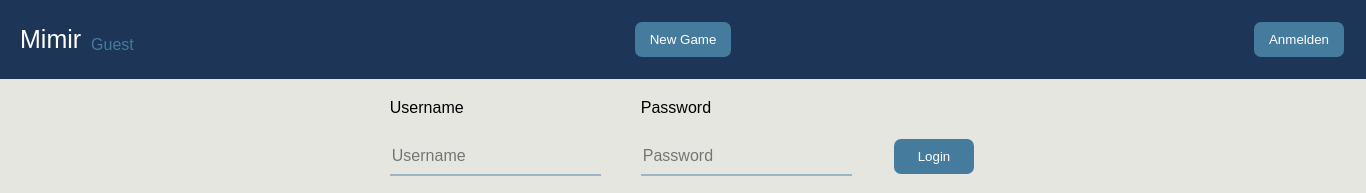
Login › Login player
Click the button "Anmelden" at (1299, 40), box [1254, 22, 1344, 57]
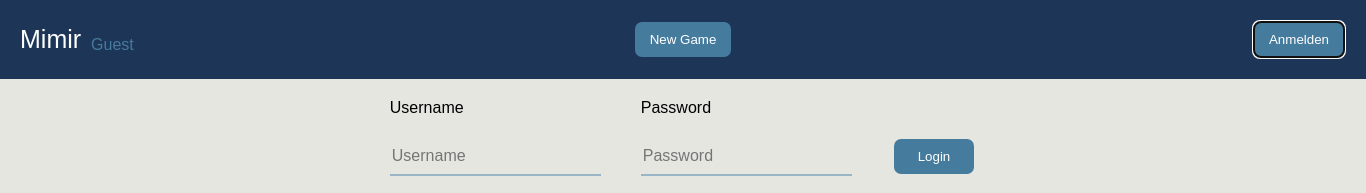
Expected: the password field with placeholder "Password" is shown, [641, 137, 852, 176]
Type "player" into the field with placeholder "Username" at (495, 156), box [390, 137, 601, 176]
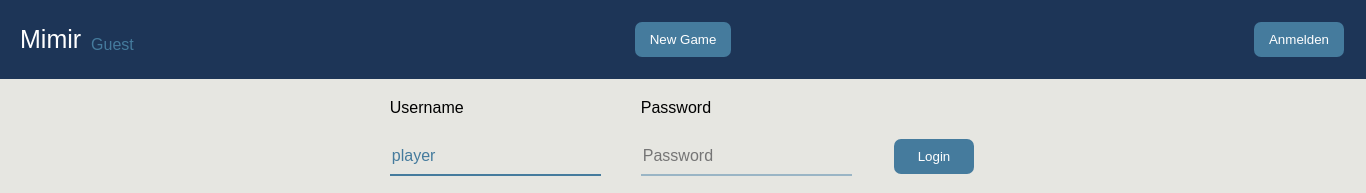
Type "player" into the password field with placeholder "Password" at (746, 156), box [641, 137, 852, 176]
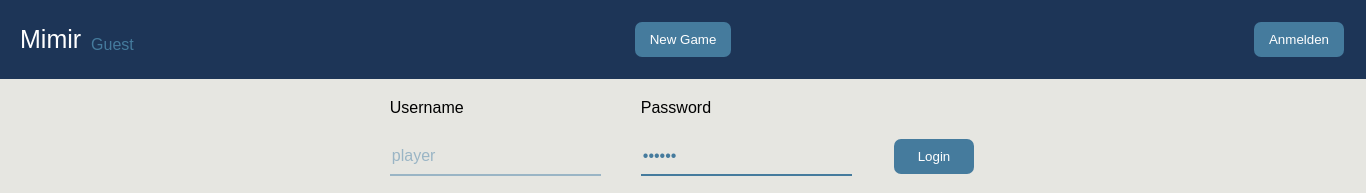
Click the button "Login" at (934, 156), box [894, 139, 974, 174]
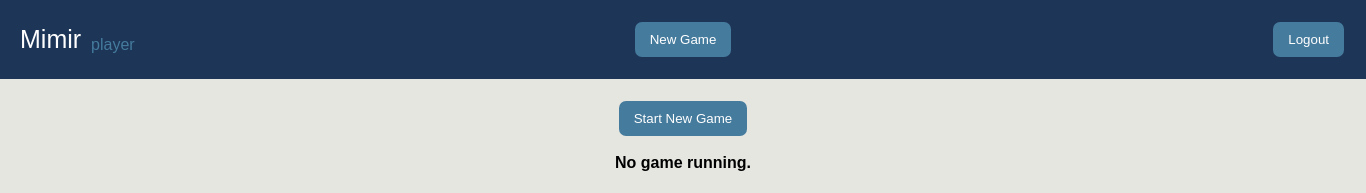
Expected: the text with placeholder "Username" is gone
Expected: the text with placeholder "Password" is gone
Expected: the button "Start New Game" is shown, [619, 101, 747, 136]
